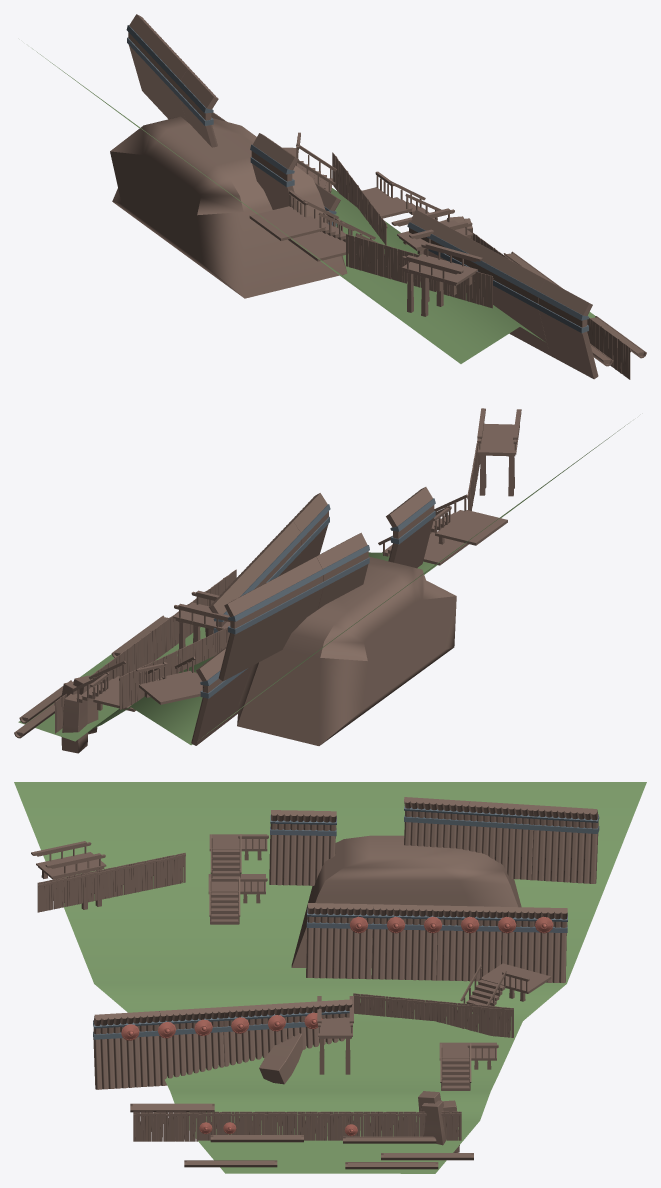
File: MSH_Stands_01.fbx
3 renders of one model, top to bottom at view 1: azimuth 30°, elevation 25°; view 2: azimuth 150°, elevation 25°; view 3: azimuth 270°, elevation 25°, orthographic. The views are drawn at different scales.
Parts seen in each view (by area): view 1: MSH_Stands_01; view 2: MSH_Stands_01; view 3: MSH_Stands_01.
Part boxes in pixels (x1,y1,x2,y2): MSH_Stands_01: (32,14,646,379); MSH_Stands_01: (14,408,628,753); MSH_Stands_01: (14,782,646,1173).
Size of the model in its own units: 3160 by 1997 by 4824.
